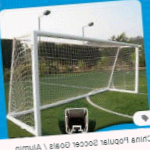goals: (4, 28, 137, 137)
